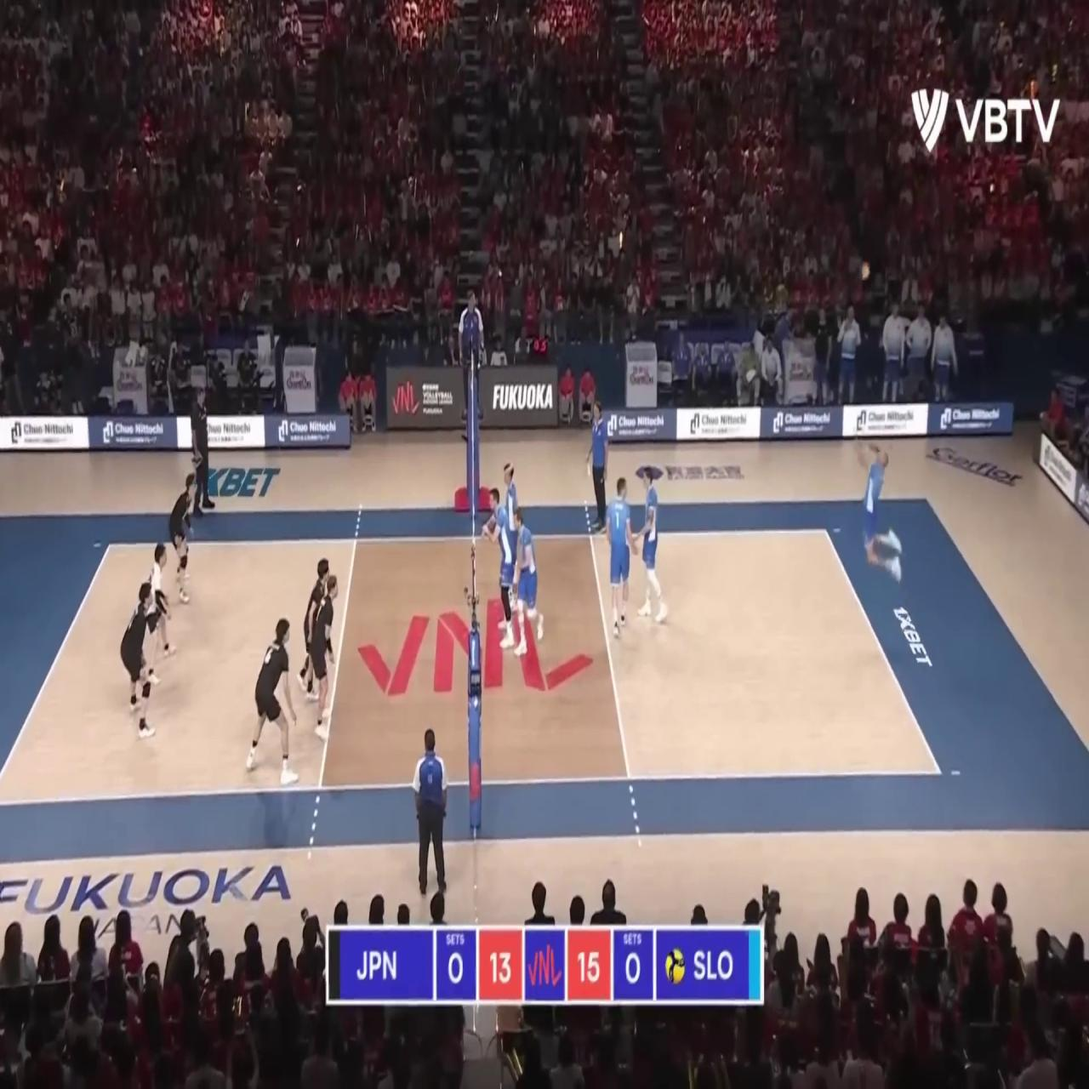ball: (861, 263, 870, 279)
